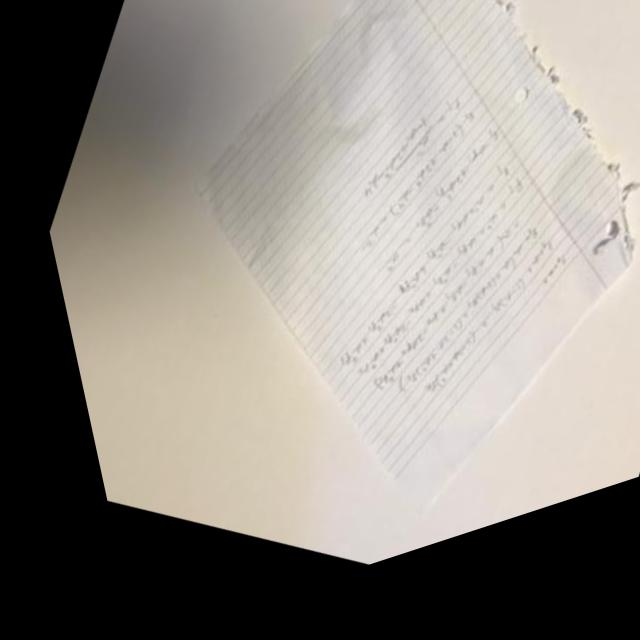paper: (12, 0, 640, 637)
